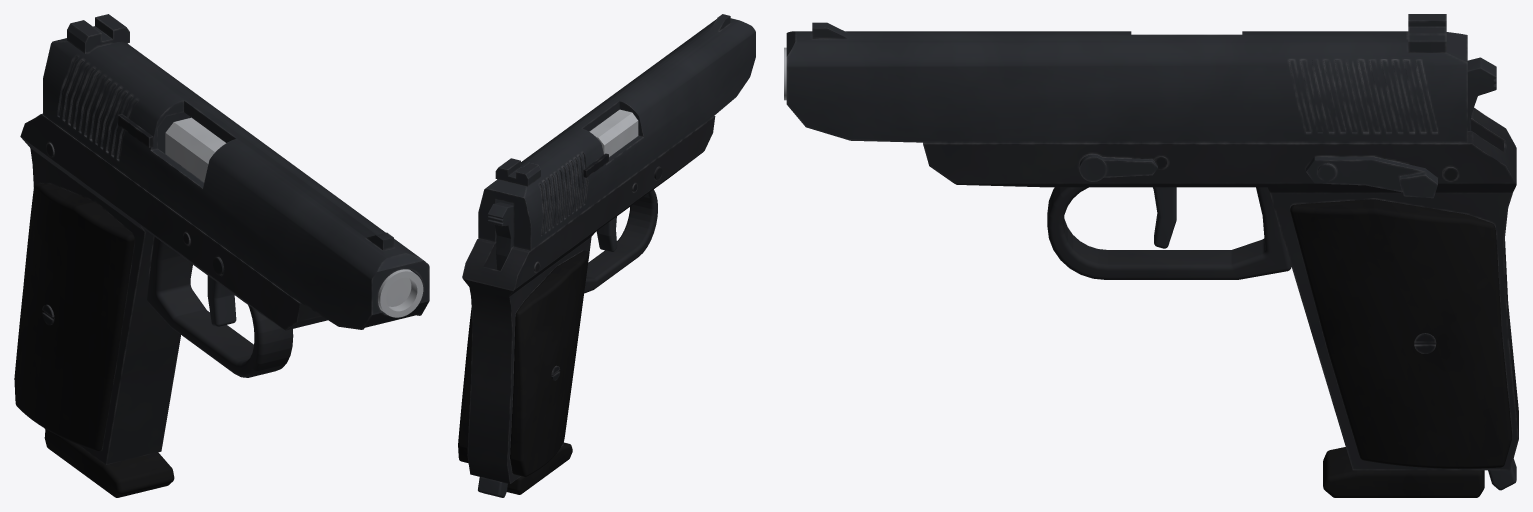
Rendered from P230_parts.glb.
3 views of the same model, side by side, from view 1: azimuth 30°, elevation 25°; view 2: azimuth 150°, elevation 25°; view 3: azimuth 270°, elevation 25° (orthographic). The views are drawn at different scales.
Visible parts, largest first — view 1: slide, grip_panel_R, frame, trigger_guard, barrel, mag_base, trigger, extractor; view 2: slide, frame, grip_panel_R, trigger_guard, barrel, hammer, grip_panel_L, mag_base, trigger, mag_catch; view 3: slide, grip_panel_L, frame, trigger_guard, mag_base, decocker, takedown_lever, hammer, trigger.
Part boxes in pixels (x1,y1,x2,y2): slide: [43, 14, 429, 329]; grip_panel_R: [14, 183, 134, 451]; frame: [20, 113, 327, 464]; trigger_guard: [147, 236, 293, 377]; barrel: [165, 117, 423, 317]; mag_base: [44, 429, 174, 497]; trigger: [207, 276, 236, 326]; extractor: [118, 114, 153, 147]; slide: [478, 14, 755, 250]; frame: [462, 116, 715, 483]; grip_panel_R: [510, 250, 589, 476]; trigger_guard: [584, 189, 657, 293]; barrel: [589, 109, 638, 156]; hammer: [487, 202, 513, 270]; grip_panel_L: [458, 308, 472, 463]; mag_base: [507, 442, 572, 494]; trigger: [596, 216, 617, 251]; mag_catch: [478, 477, 507, 497]; slide: [786, 14, 1467, 142]; grip_panel_L: [1290, 199, 1511, 468]; frame: [923, 107, 1518, 470]; trigger_guard: [1047, 187, 1291, 279]; mag_base: [1323, 447, 1484, 497]; decocker: [1306, 156, 1437, 198]; takedown_lever: [1079, 154, 1157, 181]; hammer: [1467, 57, 1496, 130]; trigger: [1153, 187, 1176, 248].
Bounding box in the file's own units: 0.03 × 0.1195 × 0.1726.
1 material, 1 textured.
